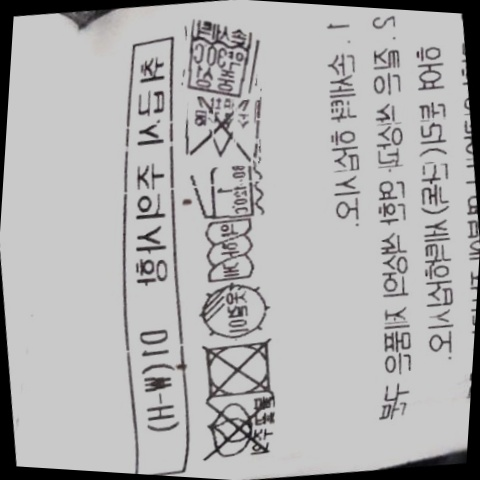DN_tumble_dry: (196, 334, 284, 403)
hand_wash: (179, 21, 262, 96)
iron_low: (191, 160, 262, 223)
line_dry_in_shade: (193, 280, 275, 341)
wring: (201, 217, 260, 286)
